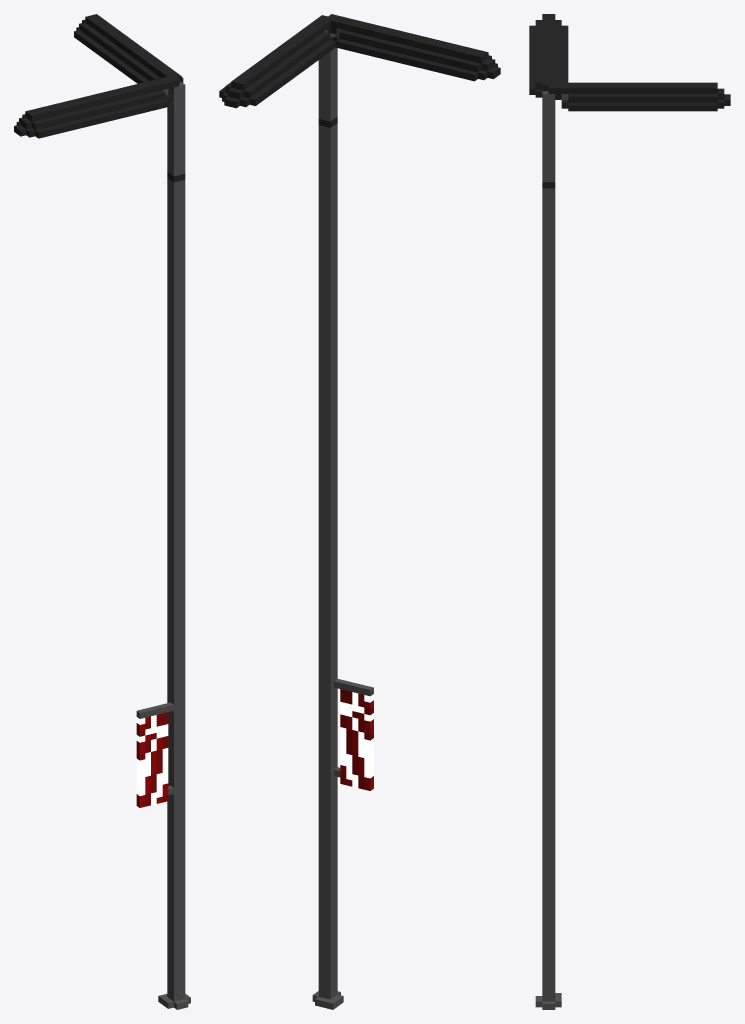
Rendered from lampFour.glb.
The picture shows the model from 3 angles, left to right: view 1: azimuth 30°, elevation 25°; view 2: azimuth 150°, elevation 25°; view 3: azimuth 270°, elevation 25°; orthographic projection. The views are drawn at different scales.
Visible parts, largest first — view 1: ObjObject; view 2: ObjObject; view 3: ObjObject.
Boxes of the visible parts, x1,y1,x2,y2 form: ObjObject: (14, 14, 190, 1009); ObjObject: (219, 14, 500, 1009); ObjObject: (529, 14, 730, 1009).
Size of the model in its own units: 3.1 by 15.6 by 3.1.
2 materials, 1 textured.
